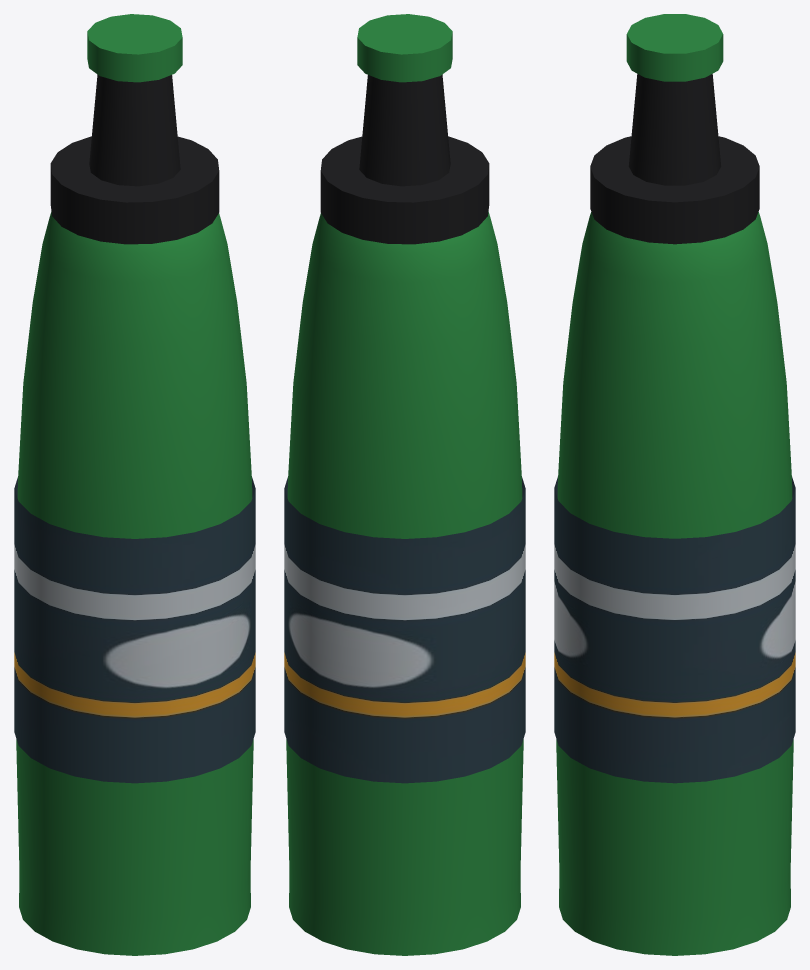
Rendered from bottle_sport_bottle_squeeze.glb.
3 views of the same model, side by side, from view 1: azimuth 30°, elevation 25°; view 2: azimuth 150°, elevation 25°; view 3: azimuth 270°, elevation 25° (orthographic).
Parts seen in each view (by area): view 1: bottle_sport_bottle_squeeze; view 2: bottle_sport_bottle_squeeze; view 3: bottle_sport_bottle_squeeze.
Part boxes in pixels (x1,y1,x2,y2): bottle_sport_bottle_squeeze: (14,14,255,955); bottle_sport_bottle_squeeze: (284,14,525,955); bottle_sport_bottle_squeeze: (554,14,795,955).
Size of the model in its own units: 0.0626 by 0.2506 by 0.0626.
Materials: 3 (1 with a texture image).
